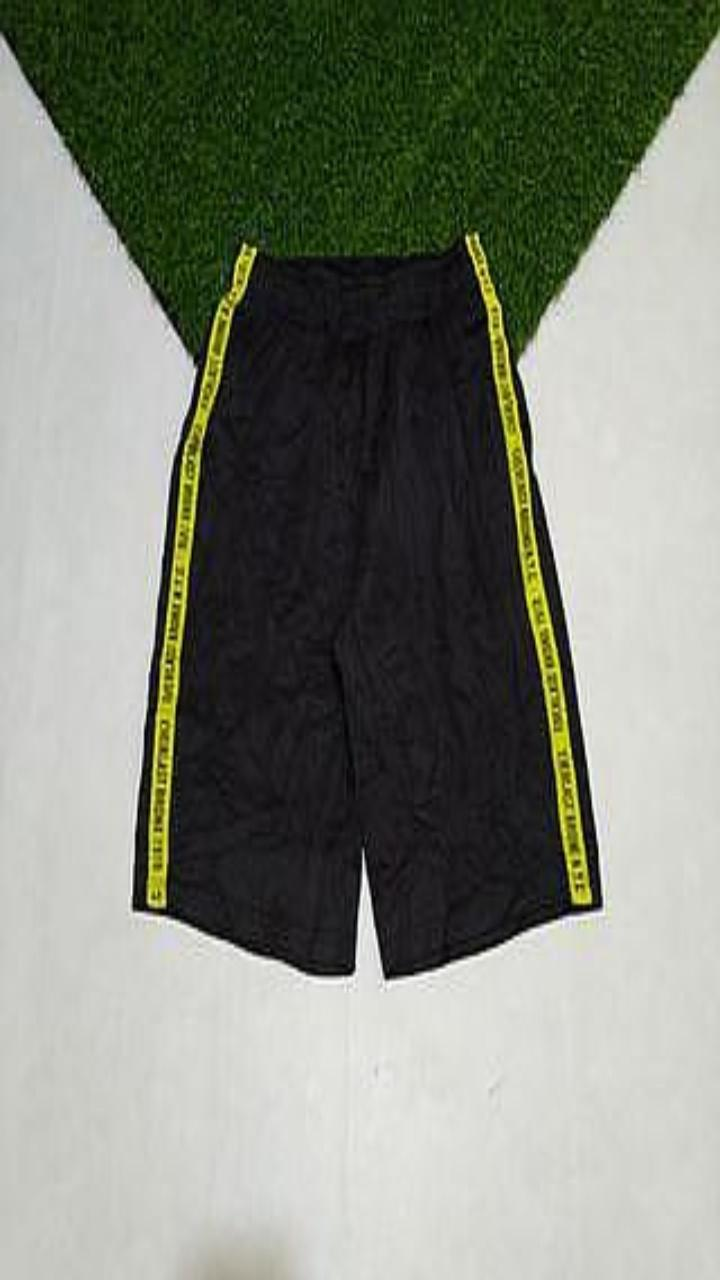Shorts: (132, 232, 601, 977)
